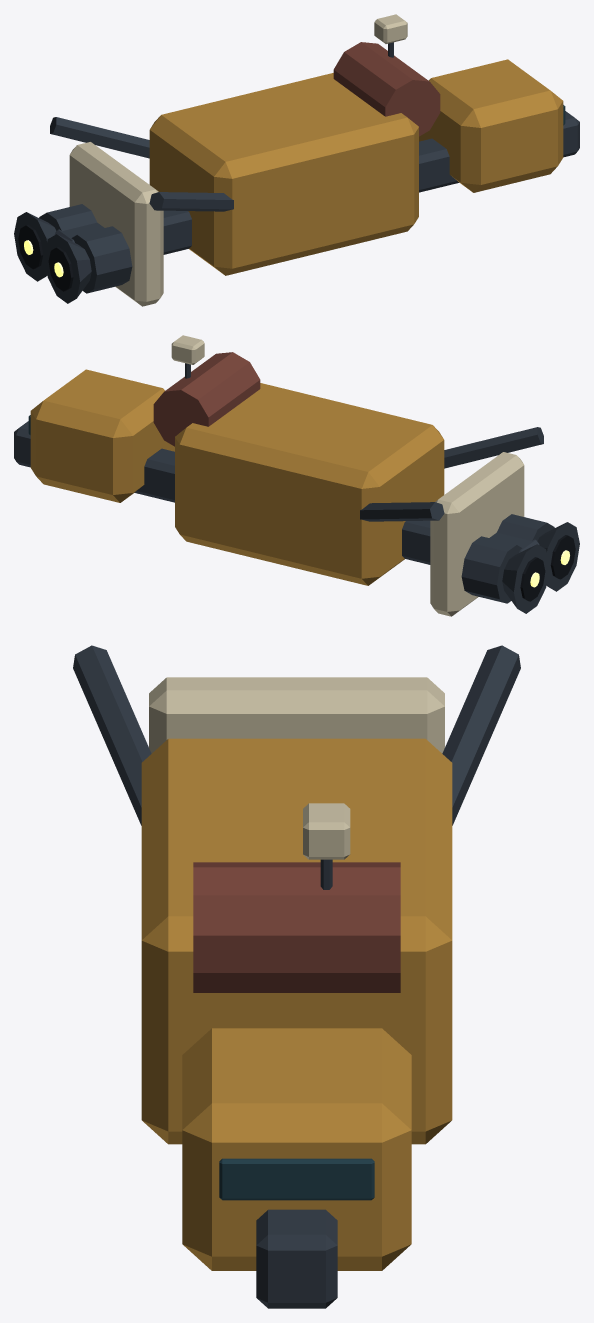
The model's file is small-mercy.glb.
3 renders of one model, top to bottom at view 1: azimuth 30°, elevation 25°; view 2: azimuth 150°, elevation 25°; view 3: azimuth 270°, elevation 25°, orthographic. The views are drawn at different scales.
Visible parts, largest first — view 1: machinery block, forward command, reactor shield, tow winch, structural spine, engine jacket, towing arm.001, engine bell, towing arm, engine bell.001, engine jacket.001, sensor head (+2 smaller); view 2: machinery block, forward command, reactor shield, tow winch, structural spine, engine jacket.001, towing arm, engine bell.001, towing arm.001, engine bell, engine jacket, sensor head (+2 smaller); view 3: machinery block, forward command, tow winch, reactor shield, structural spine, bridge glazing, towing arm, towing arm.001, sensor head.
Boxes of the visible parts, x1,y1,x2,y2 form: machinery block: (149, 73, 418, 275); forward command: (419, 59, 563, 192); reactor shield: (69, 142, 163, 306); tow winch: (333, 42, 440, 136); structural spine: (54, 111, 579, 254); engine jacket: (71, 226, 132, 293); towing arm.001: (50, 117, 149, 158); engine bell: (44, 234, 91, 303); towing arm: (149, 192, 233, 211); engine bell.001: (14, 212, 56, 281); engine jacket.001: (39, 204, 96, 230); sensor head: (374, 14, 407, 43); machinery block: (175, 383, 444, 585); forward command: (30, 369, 174, 502); reactor shield: (430, 452, 524, 616); tow winch: (153, 352, 260, 446); structural spine: (14, 421, 539, 564); engine jacket.001: (461, 536, 522, 603); towing arm: (444, 427, 543, 468); engine bell.001: (502, 544, 549, 613); towing arm.001: (360, 502, 444, 521); engine bell: (537, 522, 579, 591); engine jacket: (497, 514, 554, 541); sensor head: (171, 335, 204, 364); machinery block: (141, 738, 452, 1144); forward command: (182, 1028, 411, 1270); tow winch: (193, 862, 400, 992); reactor shield: (149, 677, 444, 753); structural spine: (256, 1209, 337, 1308); bridge glazing: (219, 1158, 374, 1200); towing arm: (73, 645, 151, 825); towing arm.001: (442, 645, 520, 825); sensor head: (303, 803, 350, 859).
Bounding box in the file's own units: 8.27 × 2.79 × 3.03.
